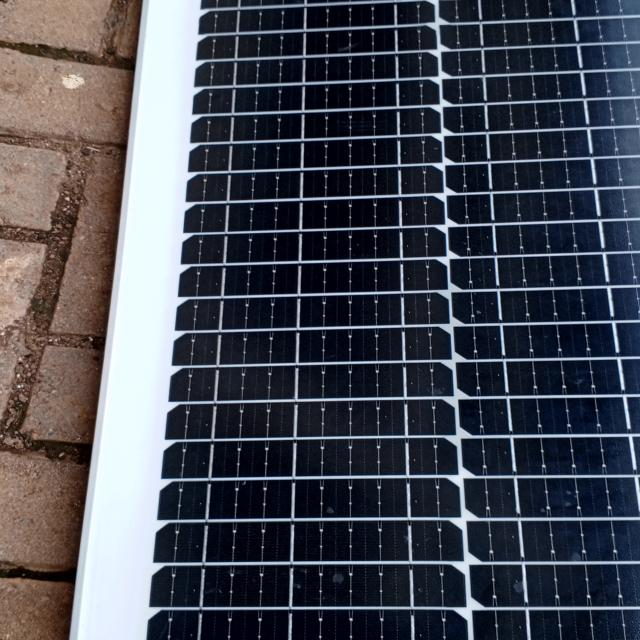Clean: (164, 3, 640, 640)
